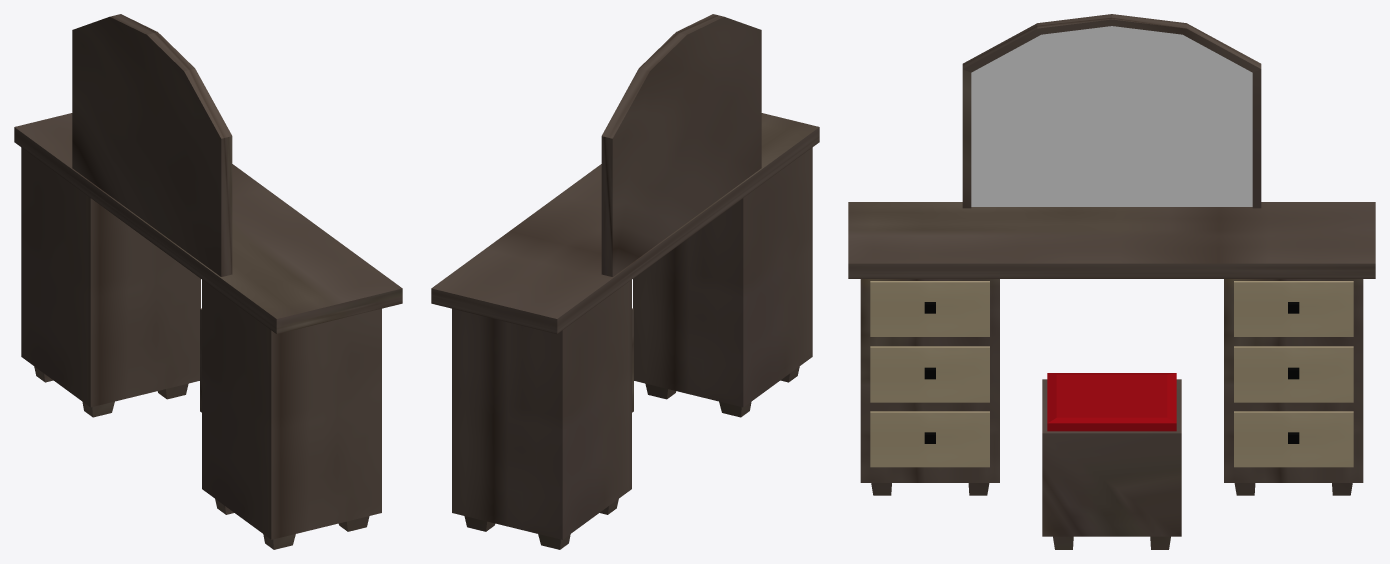
File: Vanity.fbx
The picture shows the model from 3 angles, left to right: view 1: azimuth 30°, elevation 25°; view 2: azimuth 150°, elevation 25°; view 3: azimuth 270°, elevation 25°; orthographic projection.
Visible parts, largest first — view 1: Vanity; view 2: Vanity; view 3: Vanity, Vanity Seat, Drawer2.001, Drawer2.002, Drawer3.001, Drawer3.002, Drawer1.001, Drawer1.002.
Boxes of the visible parts, x1=… form: Vanity: x1=14, y1=14, x2=402, y2=549; Vanity: x1=431, y1=14, x2=819, y2=549; Vanity: x1=848, y1=14, x2=1375, y2=495; Vanity Seat: x1=1042, y1=373, x2=1181, y2=549; Drawer2.001: x1=870, y1=346, x2=989, y2=402; Drawer2.002: x1=1234, y1=346, x2=1353, y2=402; Drawer3.001: x1=870, y1=411, x2=989, y2=467; Drawer3.002: x1=1234, y1=411, x2=1353, y2=467; Drawer1.001: x1=870, y1=281, x2=989, y2=336; Drawer1.002: x1=1234, y1=281, x2=1353, y2=336.
Size of the model in its own units: 50.99 by 108 by 116.
